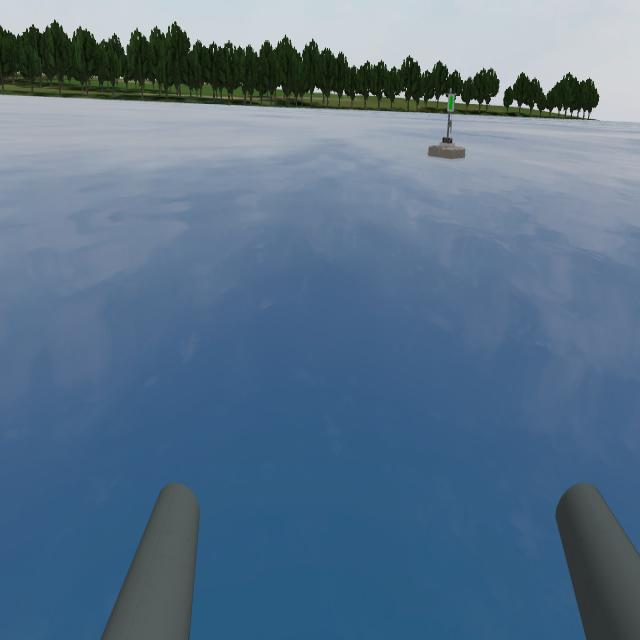green_pole: (447, 86, 456, 116)
